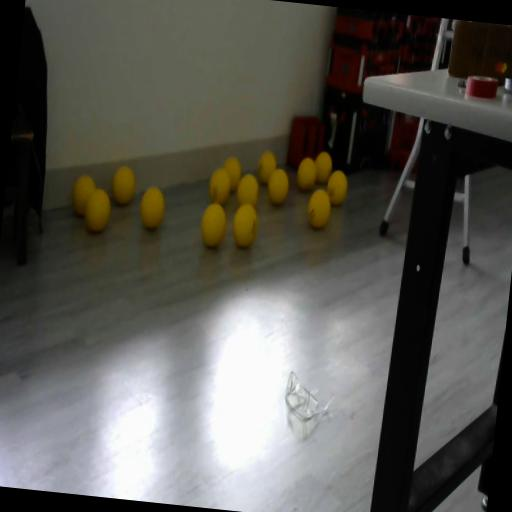FUEL: (198, 200, 230, 250), (82, 186, 114, 234), (137, 184, 168, 232), (230, 200, 260, 248), (306, 186, 334, 230), (110, 165, 137, 207), (266, 168, 291, 206), (324, 168, 349, 206), (221, 154, 244, 194), (236, 173, 260, 209), (295, 156, 318, 193), (256, 149, 278, 186), (312, 150, 334, 184)
